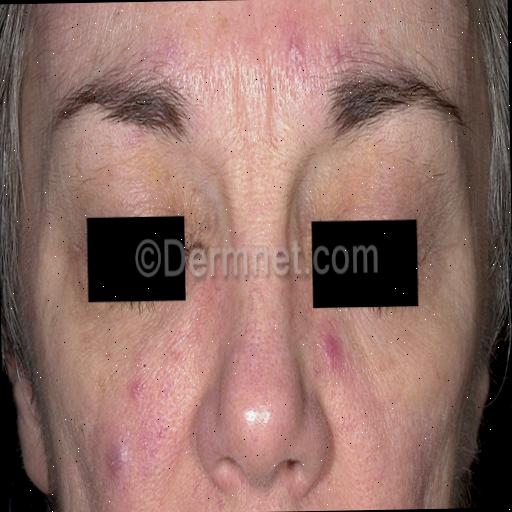Skin_Lesion: (279, 20, 310, 72), (105, 434, 132, 489), (321, 328, 348, 371), (126, 366, 151, 407), (190, 74, 214, 110), (412, 169, 431, 198), (330, 37, 348, 67), (404, 142, 422, 162)
